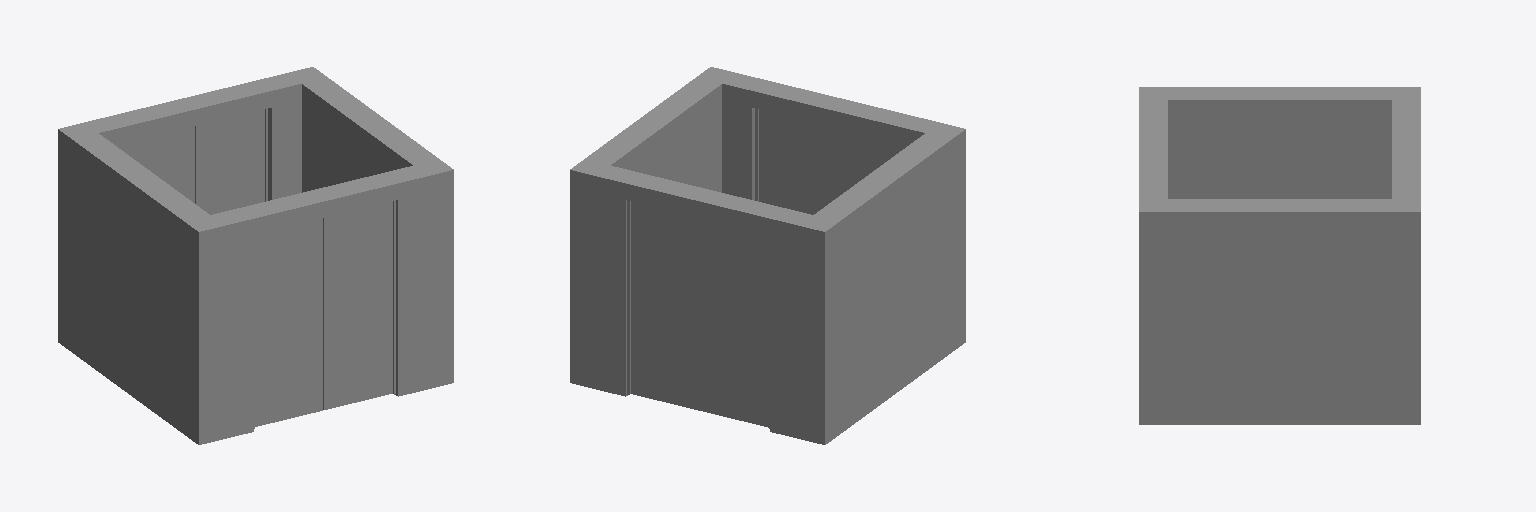
The model's file is Elevator.obj.
3 renders of one model, left to right at view 1: azimuth 30°, elevation 25°; view 2: azimuth 150°, elevation 25°; view 3: azimuth 270°, elevation 25°, orthographic.
Parts seen in each view (by area): view 1: Cube.167_Cube.239, Cube.171_Cube.243, Cube.168_Cube.240, Cube.157_Cube.229, Cube.165_Cube.237, Cube.169_Cube.241; view 2: Cube.167_Cube.239, Cube.157_Cube.229, Cube.165_Cube.237, Cube.171_Cube.243, Cube.168_Cube.240, Cube.164_Cube.236; view 3: Cube.167_Cube.239.
Part boxes in pixels (x1,y1,x2,y2): Cube.167_Cube.239: (58,67,453,444); Cube.171_Cube.243: (323,201,392,409); Cube.168_Cube.240: (255,219,322,426); Cube.157_Cube.229: (195,109,264,214); Cube.165_Cube.237: (128,126,194,202); Cube.169_Cube.241: (393,201,395,394); Cube.167_Cube.239: (570,67,965,444); Cube.157_Cube.229: (631,201,699,410); Cube.165_Cube.237: (700,218,768,427); Cube.171_Cube.243: (759,109,827,214); Cube.168_Cube.240: (828,126,895,203); Cube.164_Cube.236: (627,200,630,394); Cube.167_Cube.239: (1139,87,1420,424).
Bounding box in the file's own units: 5.61 × 4.47 × 5.36.